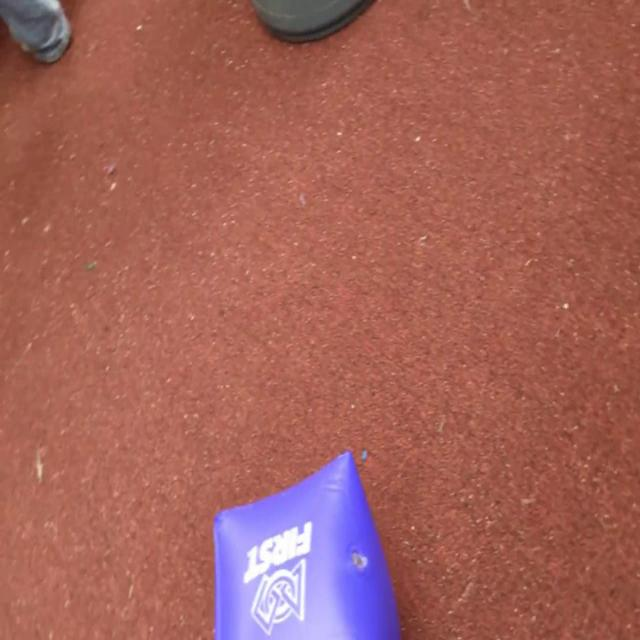frc_cube: (212, 447, 402, 640)
